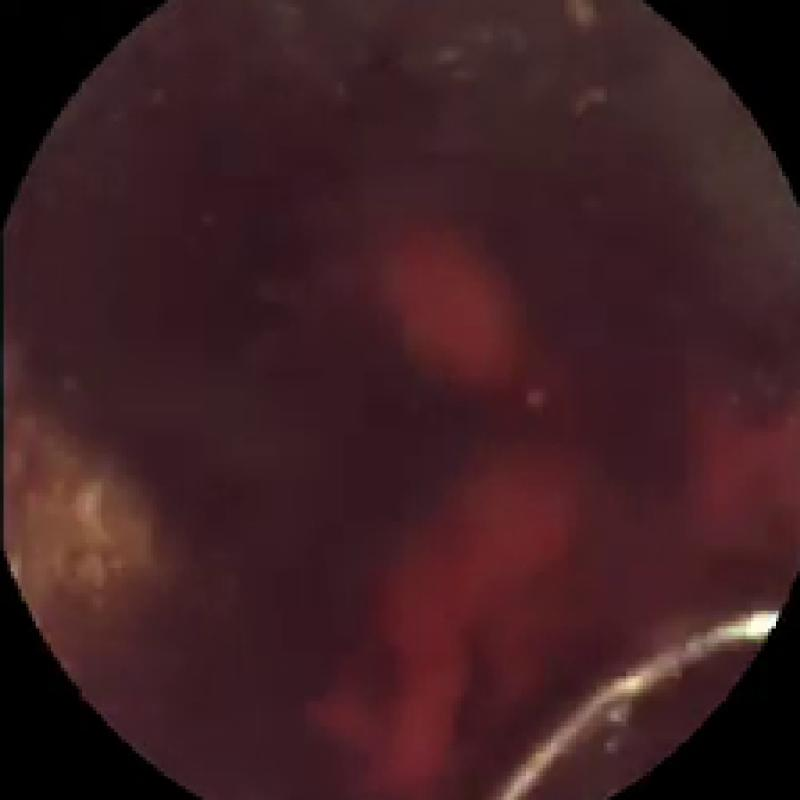bleeding: (322, 433, 594, 800), (389, 228, 536, 410), (668, 397, 800, 557)
